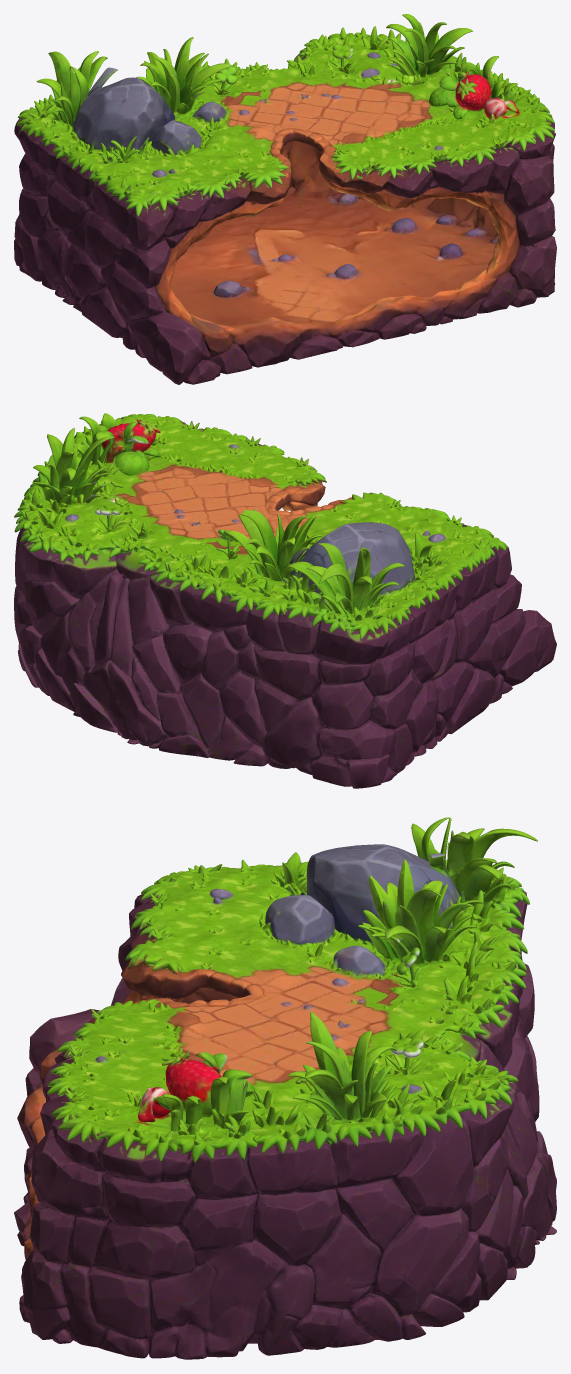
File: mapa-opt.glb
3 views of the same model, one above another, from view 1: azimuth 30°, elevation 25°; view 2: azimuth 150°, elevation 25°; view 3: azimuth 270°, elevation 25° (orthographic). The views are drawn at different scales.
Bounding box in the file's own units: 1.9 × 0.9027 × 1.5.
1 material, 1 textured.
